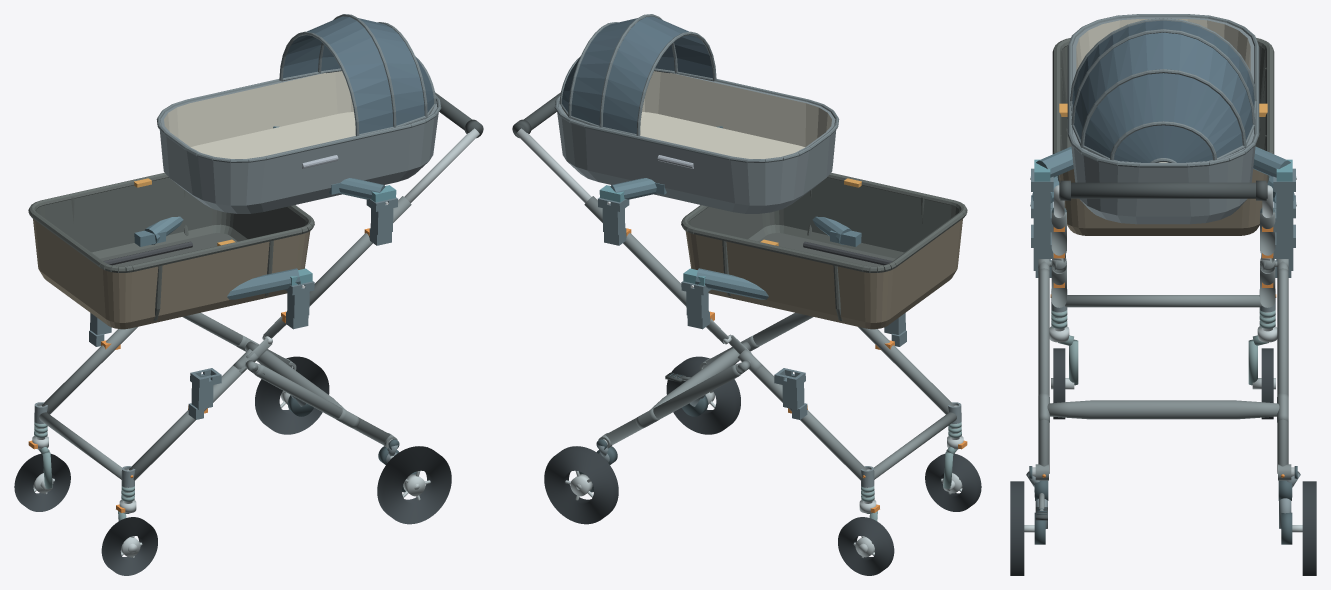
File: D15_w550_state1_wheel_S.glb
3 renders of one model, left to right at view 1: azimuth 30°, elevation 25°; view 2: azimuth 150°, elevation 25°; view 3: azimuth 270°, elevation 25°, orthographic. The views are drawn at different scales.
Visible parts, largest first — view 1: D15_Upper, D15_Lower, RL_tire.002, RR_tire.002, FL_tire.002, D15_Lower_Mount_M, FR_tire.002, V46_rear_leg_-1.003, main_lower_-1.003, main_lower_1.003, main_upper_-1.003, Universal_Cabin_Receiver_L_-1 (+7 smaller); view 2: D15_Upper, D15_Lower, RR_tire.002, RL_tire.002, FR_tire.002, D15_Lower_Mount_M, FL_tire.002, V46_rear_leg_1.003, main_lower_1.003, main_lower_-1.003, main_upper_1.003, Universal_Cabin_Receiver_L_1 (+7 smaller); view 3: D15_Upper, D15_Lower, V46_rearbar.003, round_handle.002, front_fixed_round_tube.002, V46_rear_leg_1.003, V46_rear_leg_-1.003, D15_Upper_Mount_H, RL_tire.002, RR_tire.002, Universal_Cabin_Receiver_H_1, Universal_Cabin_Receiver_H_-1 (+10 smaller).
Part boxes in pixels (bbox=[...]): D15_Upper: bbox=[156, 14, 441, 213]; D15_Lower: bbox=[28, 172, 314, 329]; RL_tire.002: bbox=[377, 446, 451, 524]; RR_tire.002: bbox=[255, 356, 329, 434]; FL_tire.002: bbox=[101, 517, 157, 575]; D15_Lower_Mount_M: bbox=[134, 216, 312, 299]; FR_tire.002: bbox=[14, 453, 70, 511]; V46_rear_leg_-1.003: bbox=[254, 364, 390, 445]; main_lower_-1.003: bbox=[129, 365, 245, 480]; main_lower_1.003: bbox=[41, 327, 137, 414]; main_upper_-1.003: bbox=[309, 196, 411, 306]; Universal_Cabin_Receiver_L_-1: bbox=[188, 368, 221, 419]; D15_Upper: bbox=[554, 14, 839, 213]; D15_Lower: bbox=[681, 172, 967, 329]; RR_tire.002: bbox=[544, 446, 618, 524]; RL_tire.002: bbox=[666, 356, 740, 434]; FR_tire.002: bbox=[838, 517, 894, 575]; D15_Lower_Mount_M: bbox=[683, 216, 861, 299]; FL_tire.002: bbox=[925, 453, 981, 511]; V46_rear_leg_1.003: bbox=[605, 364, 741, 445]; main_lower_1.003: bbox=[750, 365, 866, 480]; main_lower_-1.003: bbox=[858, 327, 954, 414]; main_upper_1.003: bbox=[584, 196, 686, 306]; Universal_Cabin_Receiver_L_1: bbox=[774, 368, 807, 419]; D15_Upper: bbox=[1067, 14, 1259, 224]; D15_Lower: bbox=[1052, 38, 1274, 235]; V46_rearbar.003: bbox=[1047, 400, 1279, 419]; round_handle.002: bbox=[1059, 182, 1267, 198]; front_fixed_round_tube.002: bbox=[1065, 295, 1261, 307]; V46_rear_leg_1.003: bbox=[1277, 268, 1288, 473]; V46_rear_leg_-1.003: bbox=[1038, 268, 1049, 473]; D15_Upper_Mount_H: bbox=[1030, 146, 1296, 181]; RL_tire.002: bbox=[1010, 481, 1024, 575]; RR_tire.002: bbox=[1302, 481, 1316, 575]; Universal_Cabin_Receiver_H_1: bbox=[1273, 168, 1295, 232]; Universal_Cabin_Receiver_H_-1: bbox=[1031, 168, 1053, 232].
Size of the model in its own units: 1.11 by 1.27 by 0.6471.
